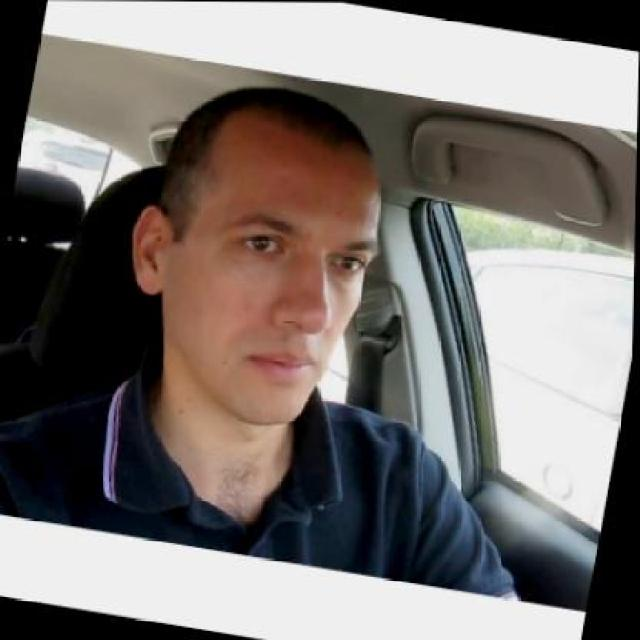attentif: (104, 67, 404, 439)
